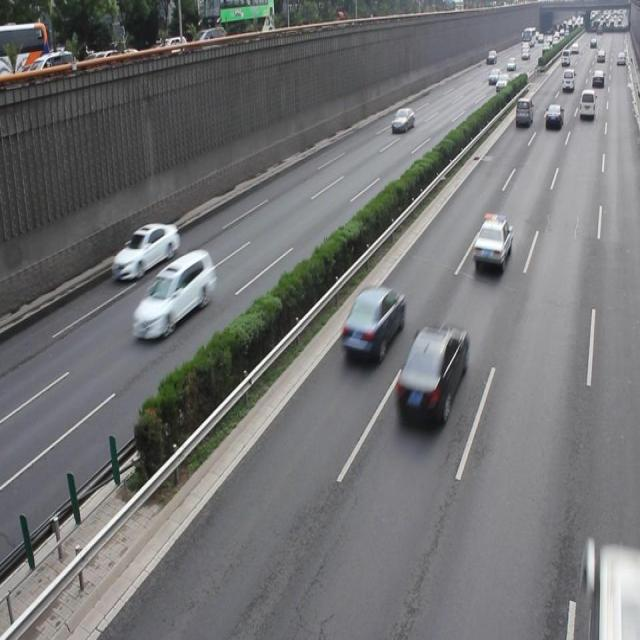car: (131, 249, 215, 341), (393, 321, 468, 423), (339, 284, 404, 362), (111, 222, 178, 277), (471, 217, 511, 274)
van: (576, 545, 640, 640)
